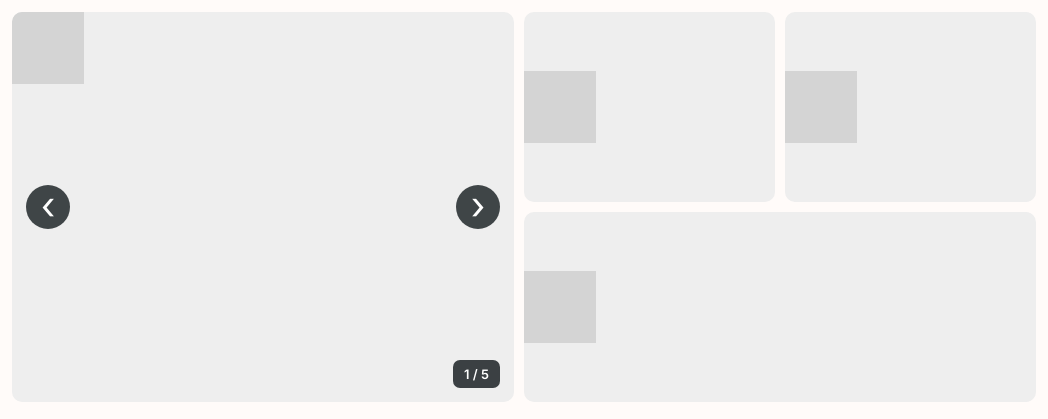
it: AccommodationCarousel › revient à la dernière photo en cliquant sur précédent depuis la première
Click the button named "Photo précédente" at (48, 207), box [26,185,70,229]
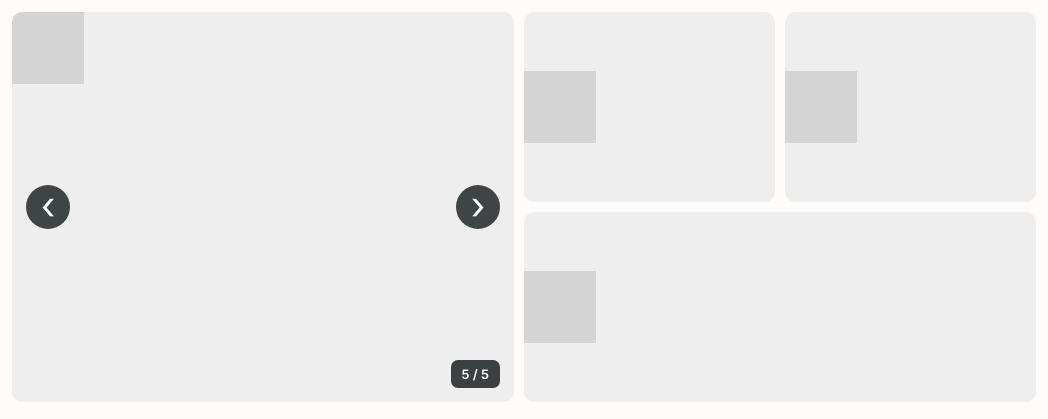
expect the text "5 / 5" is shown: met, box [451,360,500,388]
